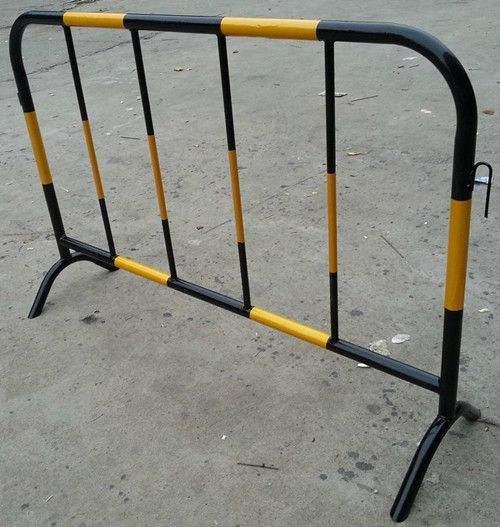sign: (3, 7, 500, 507)
